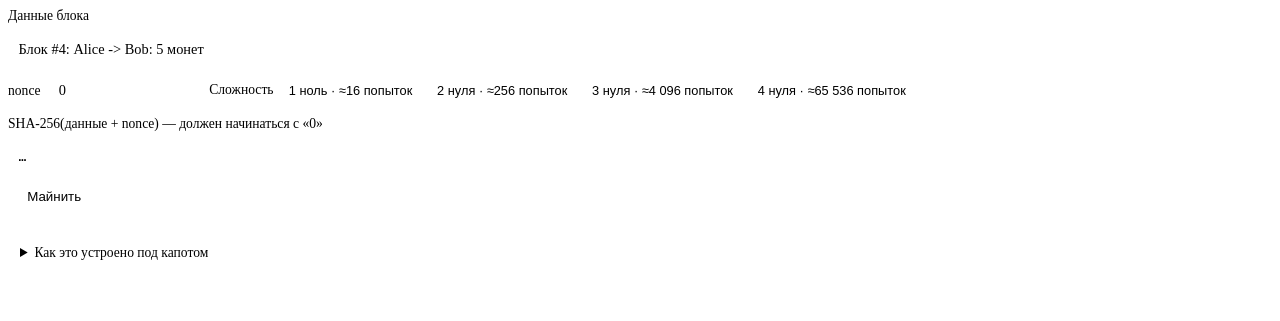
Test: mining iterates nonce until hash starts with a zero, marks trainer done and awards xp
The width and height of the screenshot is (1280, 321).
Replace the text in the field labelled "Данные блока" with "test" at [640, 49], box [8,34,1272,65]
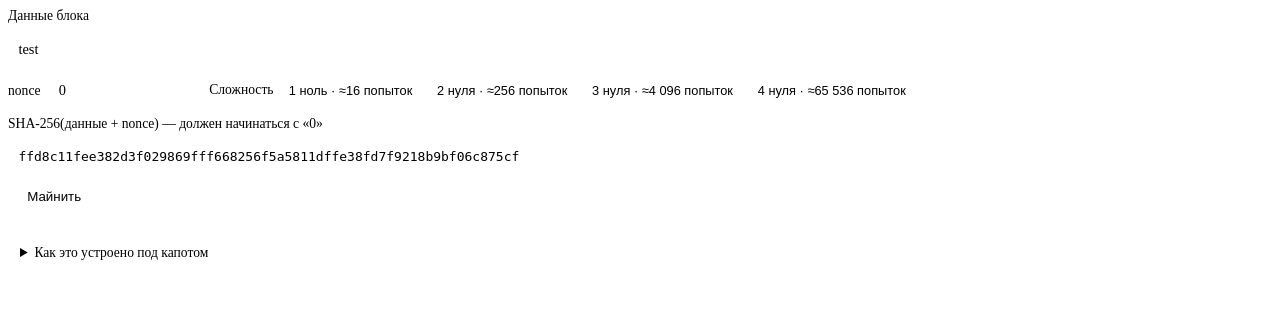
Result: the text "ff" is shown at [18,149,519,164]
Click the button "Майнить".
click(54, 196)  # box [8,182,100,211]
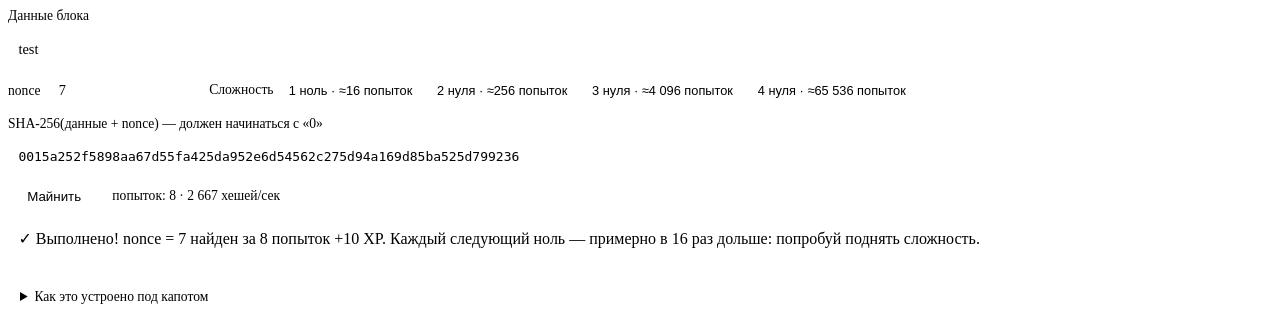
Result: the text "Выполнено!" is shown at [18,230,178,247]
Result: the text "nonce = 7" is shown at [18,230,980,247]
Result: the text "попыток: 8 · 2 667 хешей/сек" is shown at [112,188,280,204]
